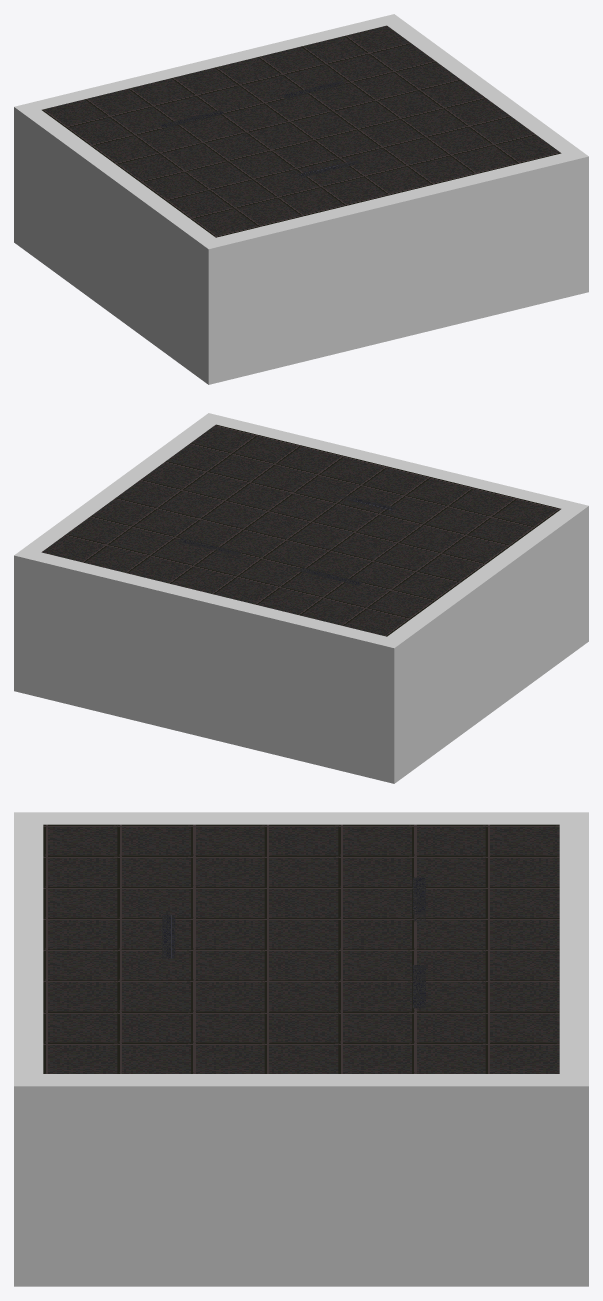
Rendered from lab.glb.
3 views of the same model, one above another, from view 1: azimuth 30°, elevation 25°; view 2: azimuth 150°, elevation 25°; view 3: azimuth 270°, elevation 25° (orthographic). The views are drawn at different scales.
Parts seen in each view (by area): view 1: Room_Shell, COL_Wall_S, COL_Wall_W, COL_Wall_N, COL_Wall_E; view 2: Room_Shell, COL_Wall_N, COL_Wall_W, COL_Wall_S, COL_Wall_E; view 3: Room_Shell, COL_Wall_E, COL_Wall_N, COL_Wall_S, COL_Wall_W, Light_Fluor_S_Housing, Light_Fluor_E_Housing.
Part boxes in pixels (x1,y1,x2,y2): Room_Shell: (42, 25, 561, 237); COL_Wall_S: (198, 149, 588, 384); COL_Wall_W: (24, 110, 215, 377); COL_Wall_N: (14, 14, 403, 249); COL_Wall_E: (387, 21, 578, 153); Room_Shell: (41, 424, 560, 636); COL_Wall_N: (14, 548, 404, 783); COL_Wall_W: (387, 509, 578, 776); COL_Wall_S: (199, 413, 588, 648); COL_Wall_E: (24, 420, 215, 552); Room_Shell: (43, 824, 559, 1073); COL_Wall_E: (43, 1074, 559, 1286); COL_Wall_N: (559, 812, 588, 1286); COL_Wall_S: (14, 812, 43, 1286); COL_Wall_W: (43, 812, 559, 824); Light_Fluor_S_Housing: (162, 915, 175, 958); Light_Fluor_E_Housing: (412, 965, 425, 1008).
Size of the model in its own units: 8.8 by 3 by 7.8.
Materials: 23 (23 with a texture image).
